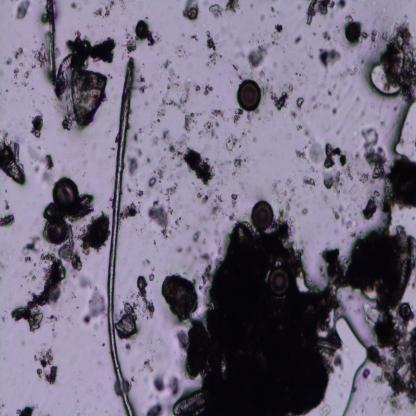Air bubble: (316, 310, 374, 416), (392, 102, 416, 165), (368, 56, 396, 100), (294, 268, 311, 298)
Background material: (186, 221, 334, 414), (321, 225, 416, 308), (358, 303, 416, 405), (60, 33, 114, 130), (161, 273, 210, 378), (12, 253, 63, 331), (381, 24, 416, 103), (147, 64, 179, 134), (274, 178, 312, 229), (320, 143, 356, 193), (360, 124, 388, 180), (390, 155, 416, 211), (79, 211, 110, 255), (78, 280, 107, 327), (184, 148, 217, 187), (292, 124, 319, 170), (125, 18, 158, 54), (305, 0, 346, 28), (26, 142, 56, 180), (32, 345, 59, 386), (160, 127, 188, 166), (136, 272, 158, 320), (149, 203, 180, 236), (308, 78, 339, 110), (116, 300, 140, 341), (200, 191, 229, 221), (232, 103, 256, 139), (247, 38, 275, 67), (12, 48, 32, 88), (200, 106, 226, 136), (332, 201, 357, 232), (60, 240, 83, 272), (203, 28, 221, 66), (338, 57, 361, 83), (153, 372, 179, 395), (94, 0, 121, 22), (318, 46, 341, 69), (208, 1, 241, 17), (226, 150, 246, 175), (142, 164, 168, 183), (269, 90, 290, 112), (365, 20, 381, 46), (182, 0, 200, 23), (23, 230, 38, 256), (172, 42, 192, 61), (360, 198, 377, 220), (14, 0, 31, 21), (0, 208, 16, 230), (184, 111, 200, 132), (121, 201, 137, 222), (31, 112, 44, 137), (318, 24, 332, 44), (176, 88, 189, 109), (146, 400, 165, 414), (136, 72, 146, 98), (182, 78, 200, 92), (168, 188, 186, 202), (231, 61, 244, 80), (129, 154, 140, 175), (189, 228, 202, 245), (16, 402, 34, 414), (301, 176, 316, 190), (358, 364, 370, 380), (226, 135, 238, 151), (294, 31, 305, 47), (198, 254, 212, 265), (141, 363, 153, 374), (188, 34, 200, 44), (275, 21, 284, 34), (297, 96, 305, 110), (149, 175, 157, 189), (230, 192, 238, 206), (69, 1, 79, 12), (205, 85, 214, 96), (334, 108, 340, 114)
Cellulose filter fibre: (46, 0, 58, 84)
Diatom: (0, 141, 26, 188), (171, 388, 215, 415), (52, 177, 80, 213), (267, 262, 293, 298), (237, 79, 262, 110), (252, 200, 275, 231), (47, 219, 69, 244), (347, 22, 361, 42)
Hair: (102, 56, 138, 415)
